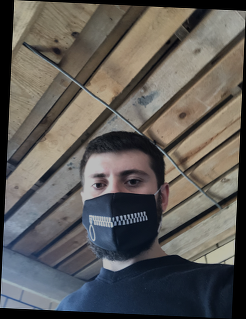with_mask: (81, 162, 158, 261)
